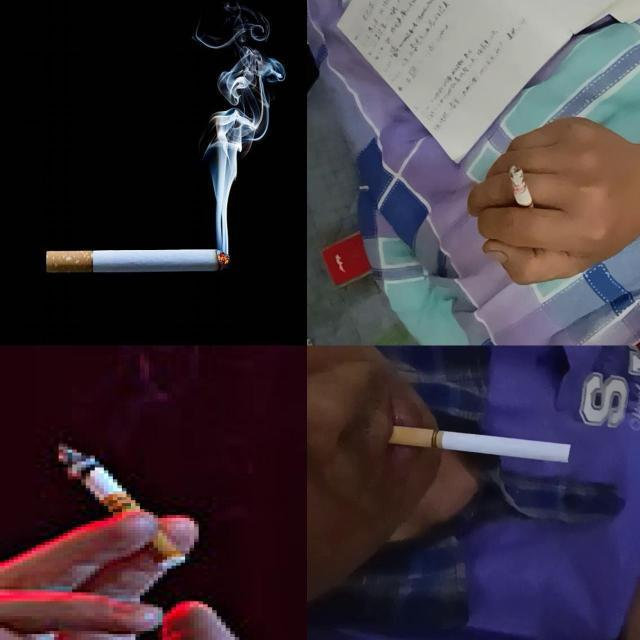smoking: (45, 438, 181, 562), (390, 428, 574, 464), (46, 250, 230, 274), (510, 166, 536, 220)
